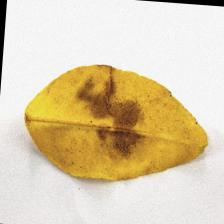black spot: (74, 76, 148, 150)
